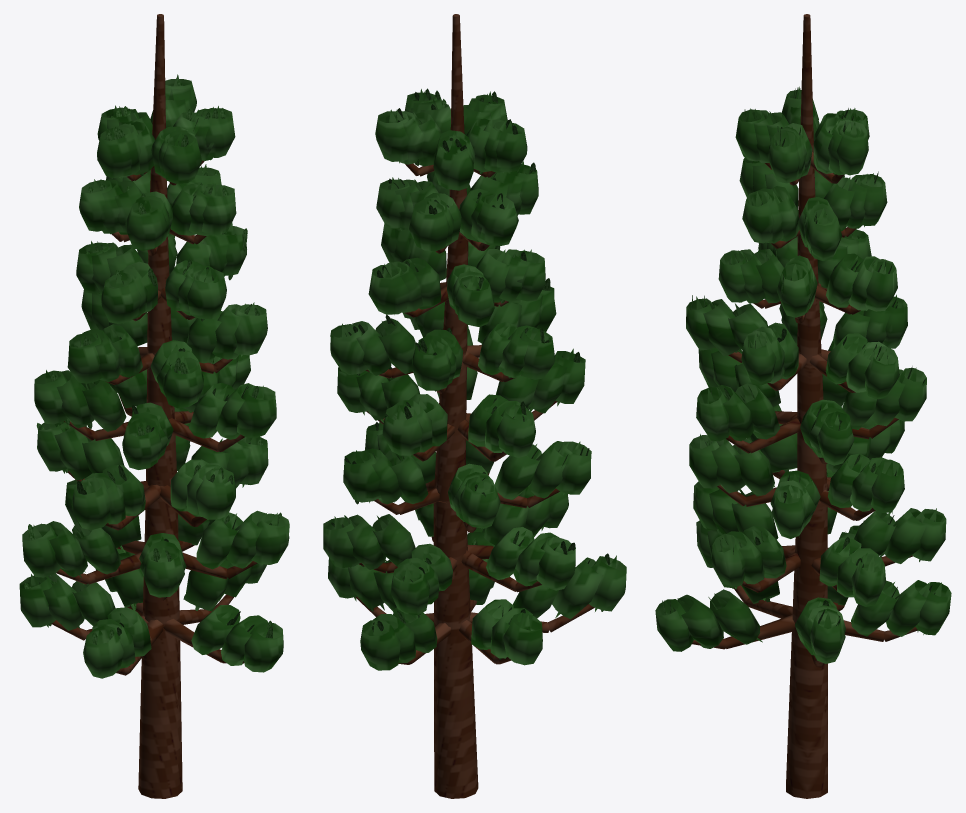
File: pine05-lod0.glb
3 views of the same model, side by side, from view 1: azimuth 30°, elevation 25°; view 2: azimuth 150°, elevation 25°; view 3: azimuth 270°, elevation 25° (orthographic).
Parts seen in each view (by area): view 1: TZ_pine_Batch_01_LOD0, TZ_pine_Batch_00_LOD0, TZ_pine_Batch_02_LOD0; view 2: TZ_pine_Batch_01_LOD0, TZ_pine_Batch_00_LOD0, TZ_pine_Batch_02_LOD0; view 3: TZ_pine_Batch_01_LOD0, TZ_pine_Batch_00_LOD0, TZ_pine_Batch_02_LOD0.
Boxes of the visible parts, box(x1,y1,x2,y2) form: TZ_pine_Batch_01_LOD0: box(19, 74, 289, 678); TZ_pine_Batch_00_LOD0: box(51, 14, 257, 798); TZ_pine_Batch_02_LOD0: box(24, 80, 281, 663); TZ_pine_Batch_01_LOD0: box(323, 89, 626, 670); TZ_pine_Batch_00_LOD0: box(355, 14, 594, 798); TZ_pine_Batch_02_LOD0: box(331, 88, 610, 663); TZ_pine_Batch_01_LOD0: box(655, 86, 951, 663); TZ_pine_Batch_00_LOD0: box(692, 14, 917, 798); TZ_pine_Batch_02_LOD0: box(662, 87, 935, 642).
Bounding box in the file's own units: 2.47 × 7.1 × 2.46.
Materials: 3 (3 with a texture image).
